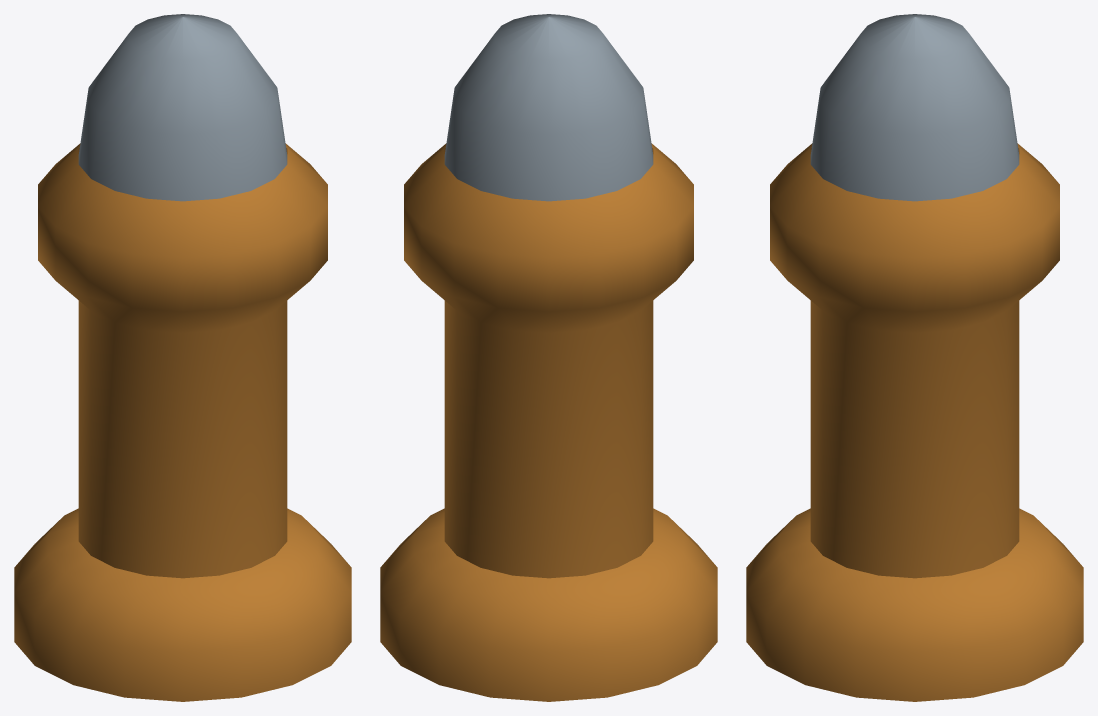
File: mech-stud.dae
3 renders of one model, left to right at view 1: azimuth 30°, elevation 25°; view 2: azimuth 150°, elevation 25°; view 3: azimuth 270°, elevation 25°, orthographic.
Parts seen in each view (by area): view 1: accent, metal; view 2: accent, metal; view 3: accent, metal.
Boxes of the visible parts, <box> form: accent: <box>14,143,351,701</box>; metal: <box>78,14,287,201</box>; accent: <box>380,143,717,701</box>; metal: <box>444,14,653,201</box>; accent: <box>746,143,1083,701</box>; metal: <box>810,14,1019,201</box>.
Bounding box in the file's own units: 2 × 3.95 × 1.97.
